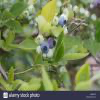Blueberry leaf: (57, 42, 93, 68), (51, 23, 69, 70), (37, 1, 60, 36), (7, 2, 34, 18), (2, 17, 23, 35), (14, 39, 41, 52), (6, 29, 20, 47), (36, 60, 54, 72), (33, 51, 45, 66), (8, 63, 15, 83)
